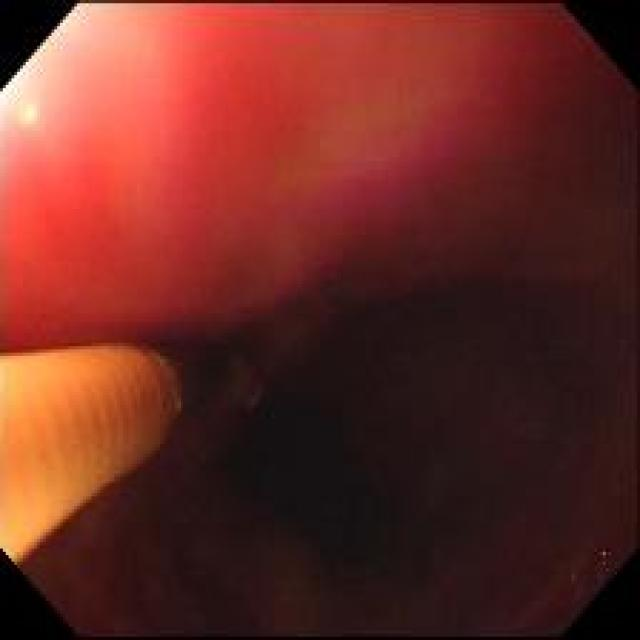color misalignment: (138, 348, 186, 432), (602, 548, 608, 576)
contrast: (174, 275, 630, 632)
instrument: (2, 347, 266, 565)
saturation: (2, 52, 56, 125)
specularity: (24, 107, 38, 123)
